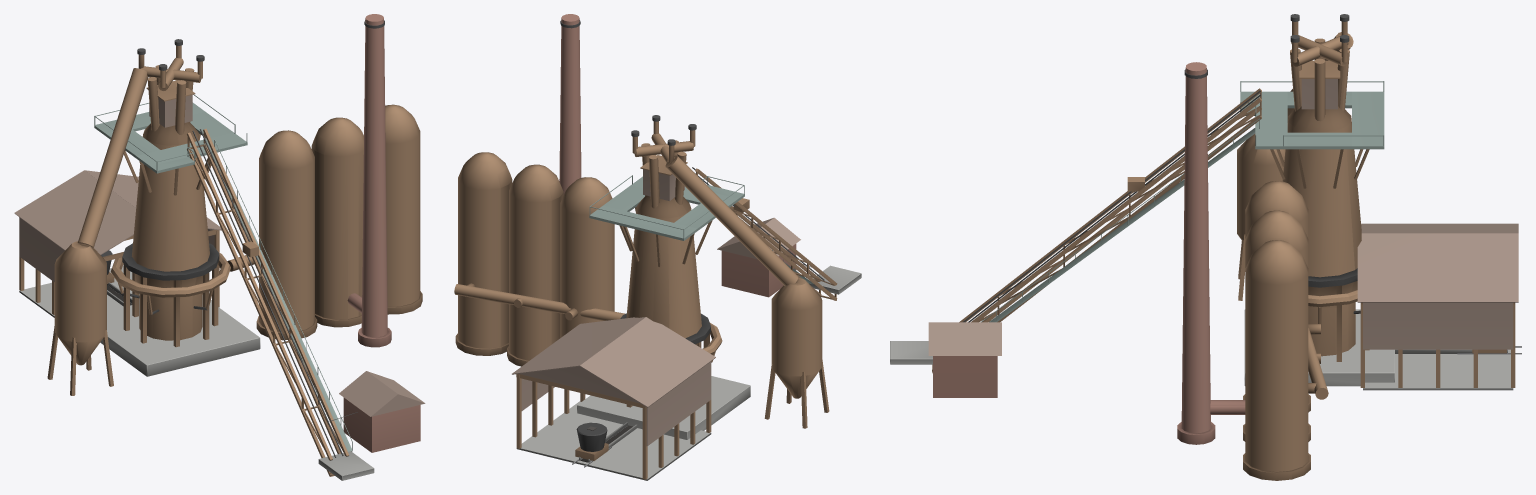
The model's file is blast_furnace_lod1.glb.
The picture shows the model from 3 angles, left to right: view 1: azimuth 30°, elevation 25°; view 2: azimuth 150°, elevation 25°; view 3: azimuth 270°, elevation 25°; orthographic projection. The views are drawn at different scales.
Visible parts, largest first — view 1: static; view 2: static; view 3: static.
Boxes of the visible parts, x1,y1,x2,y2 form: static: (14,14,425,480); static: (454,14,861,480); static: (890,14,1521,480).
Size of the model in its own units: 45.05 by 39.62 by 58.8.
